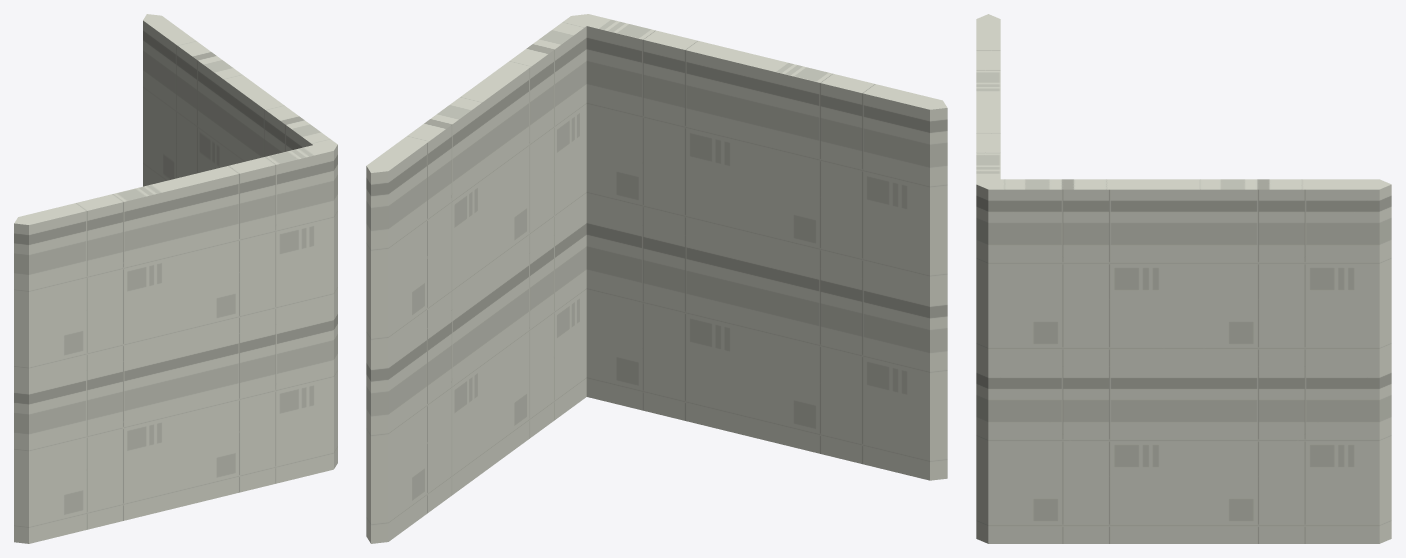
File: DummyWall.glb
3 views of the same model, side by side, from view 1: azimuth 30°, elevation 25°; view 2: azimuth 150°, elevation 25°; view 3: azimuth 270°, elevation 25° (orthographic). The views are drawn at different scales.
Visible parts, largest first — view 1: mergedBlocks(Clone); view 2: mergedBlocks(Clone); view 3: mergedBlocks(Clone).
Boxes of the visible parts, x1,y1,x2,y2 form: mergedBlocks(Clone): (14,14,337,543); mergedBlocks(Clone): (366,14,947,543); mergedBlocks(Clone): (976,14,1391,543).
Size of the model in its own units: 2.13 by 2 by 2.12.
Materials: 1 (1 with a texture image).
